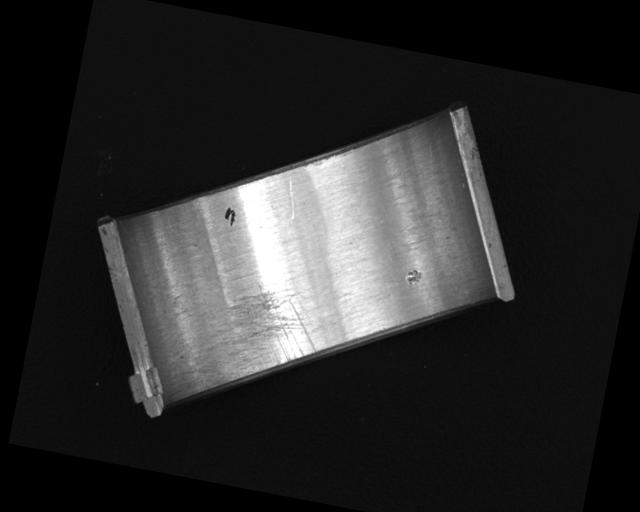blot: (221, 205, 237, 226)
bruise: (403, 267, 423, 289)
nick: (280, 173, 302, 221)
scratch: (198, 274, 325, 409)
